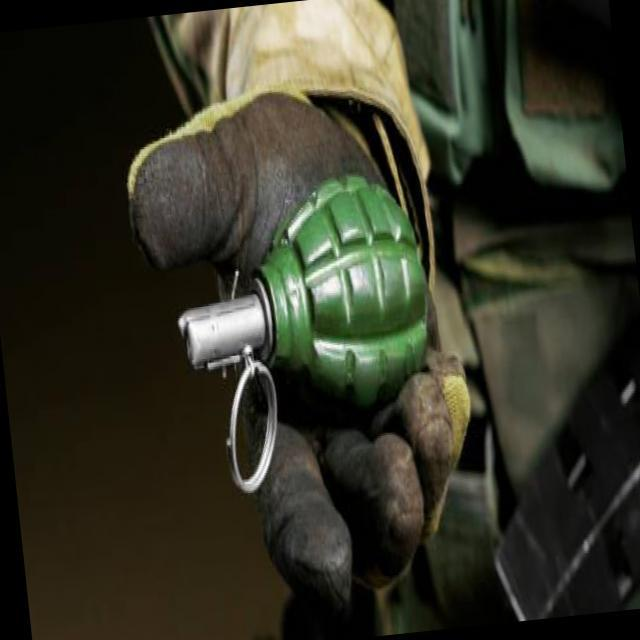grenade: (166, 157, 449, 502)
